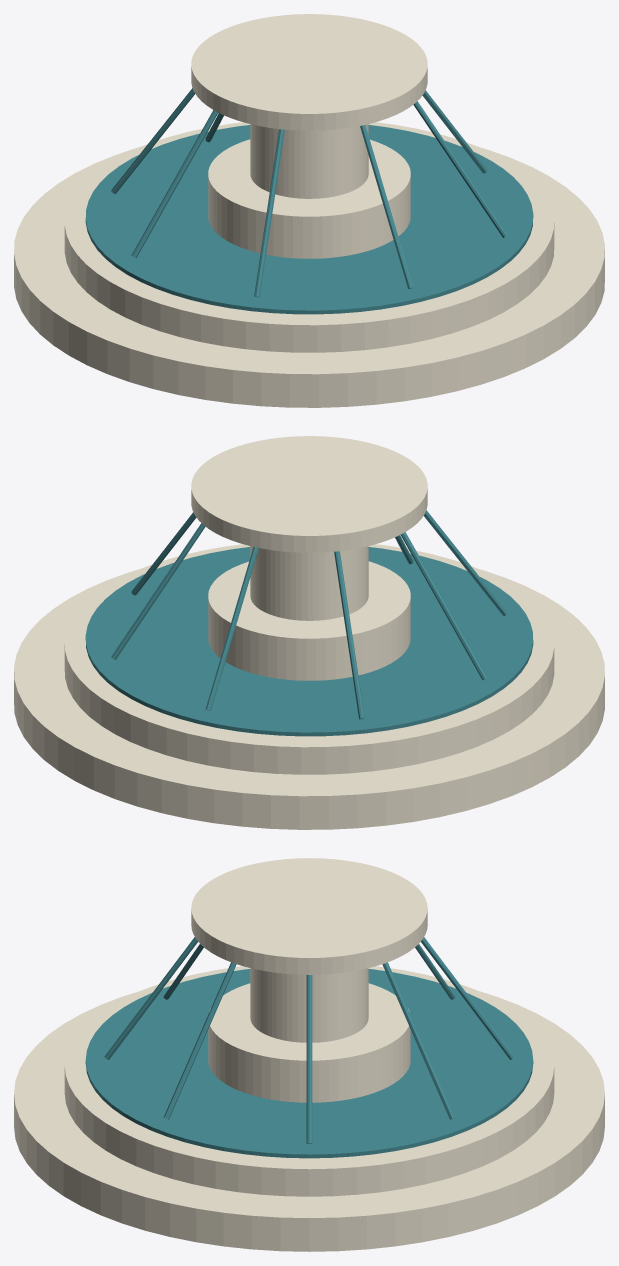
Rendered from Fountain.glb.
3 renders of one model, top to bottom at view 1: azimuth 30°, elevation 25°; view 2: azimuth 150°, elevation 25°; view 3: azimuth 270°, elevation 25°, orthographic.
Parts seen in each view (by area): view 1: Fountain_Carved ivory, Fountain_Water; view 2: Fountain_Carved ivory, Fountain_Water; view 3: Fountain_Carved ivory, Fountain_Water.
Part boxes in pixels (<box>): Fountain_Carved ivory: <box>14,14,604,407</box>; Fountain_Water: <box>85,88,533,314</box>; Fountain_Carved ivory: <box>14,436,604,829</box>; Fountain_Water: <box>85,510,533,736</box>; Fountain_Carved ivory: <box>14,858,604,1251</box>; Fountain_Water: <box>85,937,533,1158</box>.
Bounding box in the file's own units: 7 × 2.86 × 7.
